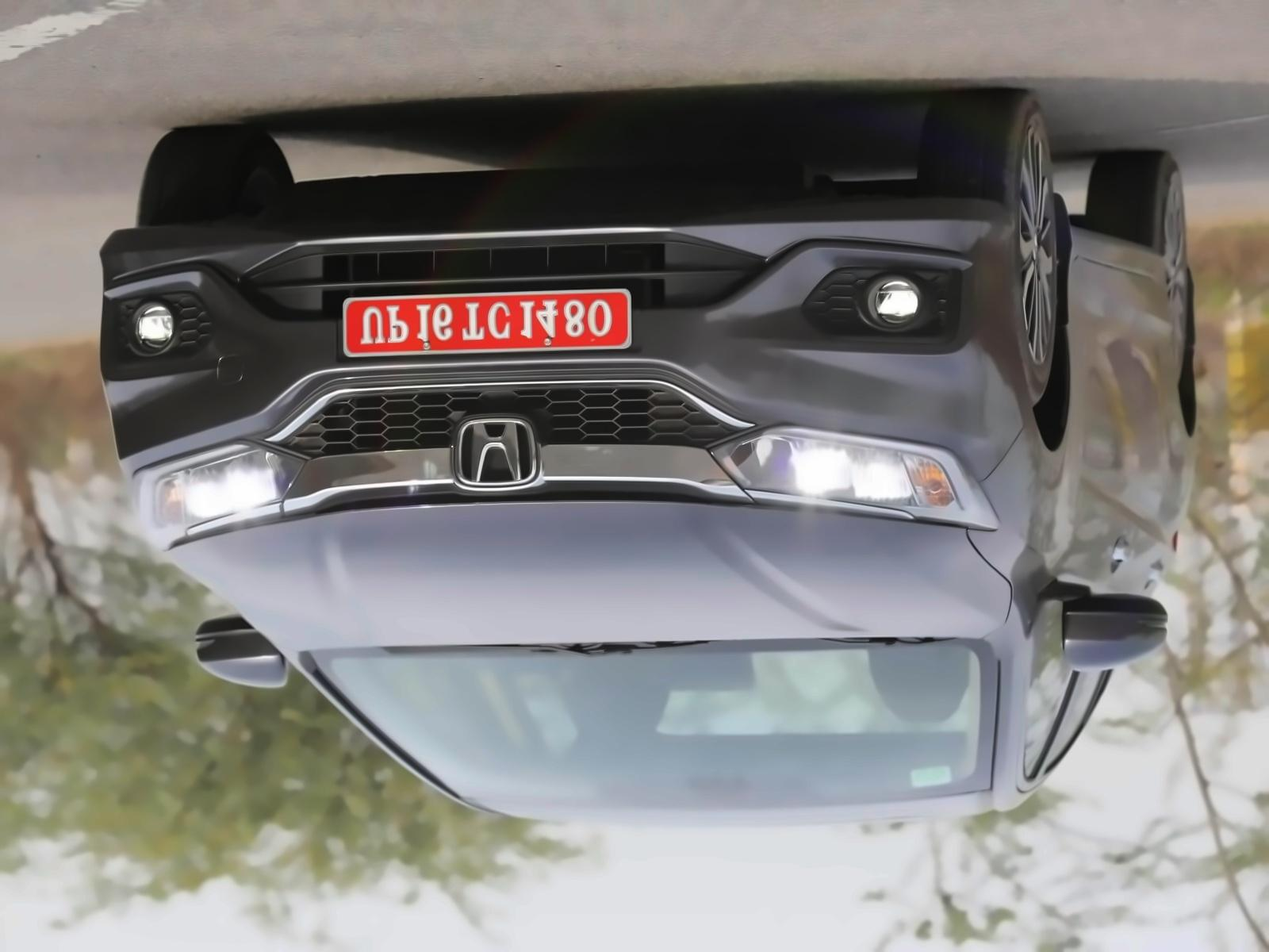Car hood: (152, 494, 1016, 645)
Driver-s door - -F-R-: (1004, 168, 1169, 830)
Front bumper: (79, 181, 1031, 504)
Headlight - -L-: (139, 433, 314, 545)
Headlight - -R-: (711, 417, 997, 528)
Side bumper - -R-: (1046, 205, 1190, 354)
Side mirror - -L-: (184, 614, 294, 683)
Side mirror - -R-: (1036, 571, 1163, 674)
